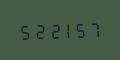five: (17, 21, 30, 41), (74, 19, 87, 39)
one: (60, 20, 73, 39)
seven: (88, 19, 101, 38)
two: (31, 20, 44, 40), (46, 20, 59, 40)
